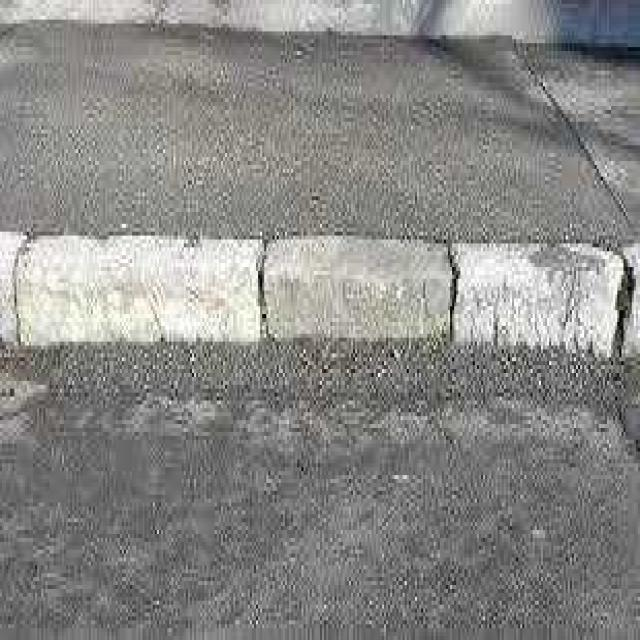curb: (1, 237, 640, 347)
